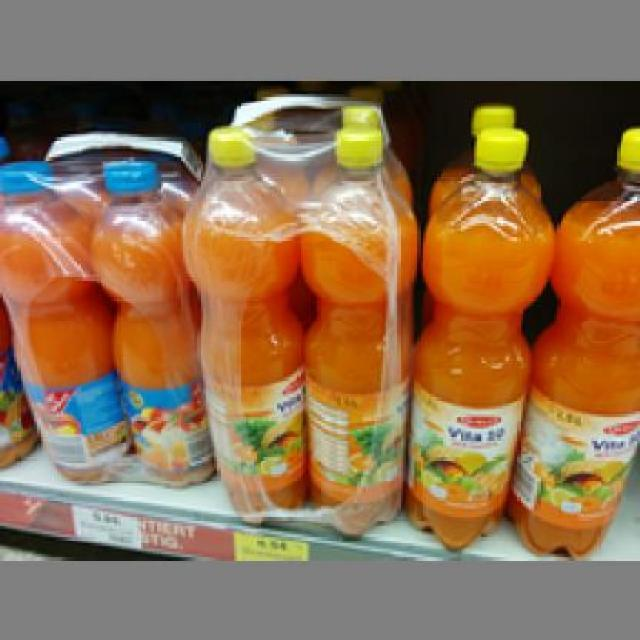Juice: (400, 116, 554, 550), (502, 122, 638, 555), (294, 122, 420, 535), (180, 123, 309, 523), (82, 154, 212, 483), (0, 154, 129, 480)
